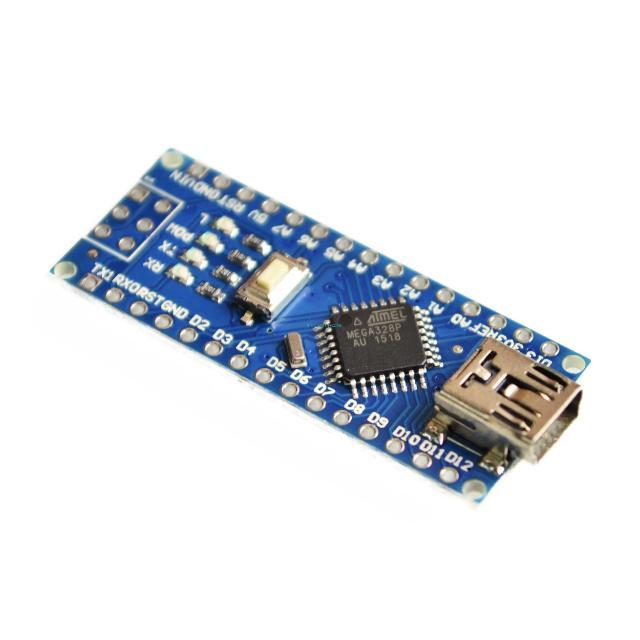Arduino-Nano: (52, 151, 590, 503)
